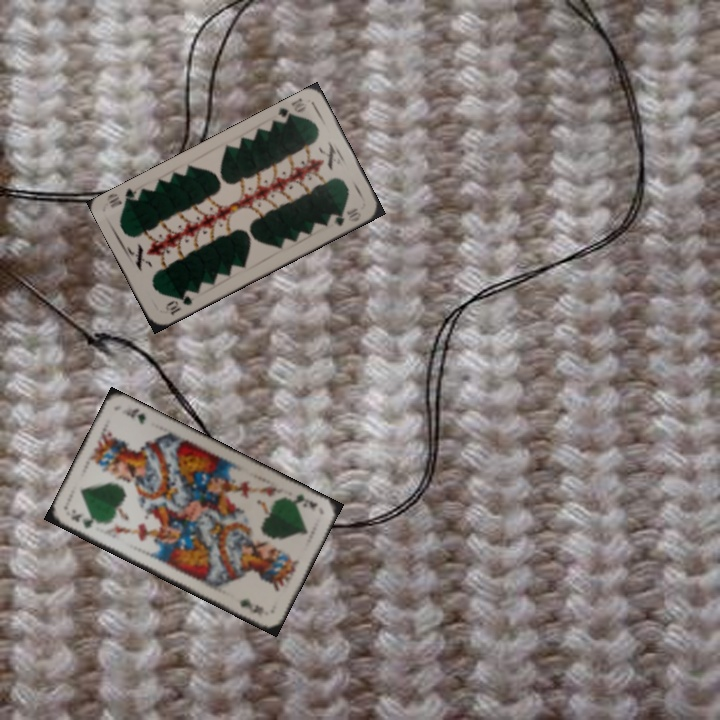G10: (273, 94, 310, 126), (161, 290, 195, 319)
GK: (283, 490, 320, 511), (67, 510, 96, 531)
